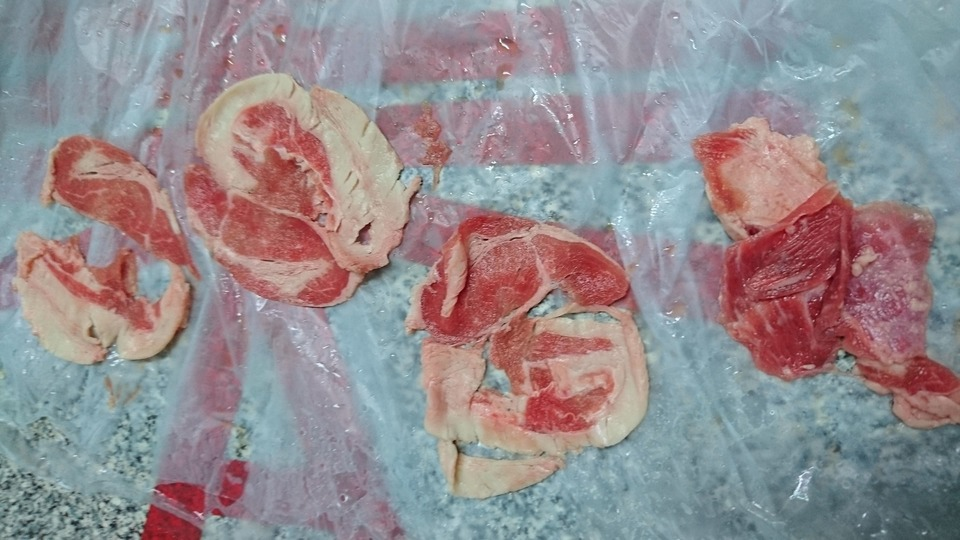restructured meat: (693, 119, 956, 429), (416, 208, 653, 501), (186, 61, 424, 308), (17, 132, 196, 369)
